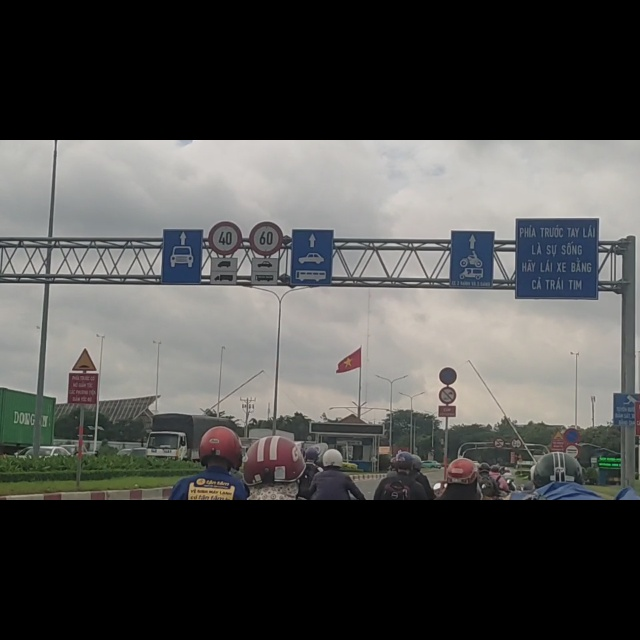bien_nguy_hiem: (250, 145, 283, 204), (208, 145, 241, 200), (611, 448, 638, 507), (71, 371, 97, 411), (439, 403, 457, 436), (439, 439, 457, 471), (565, 512, 581, 539), (566, 540, 580, 565), (493, 529, 505, 550), (511, 530, 523, 548), (553, 516, 563, 533)
